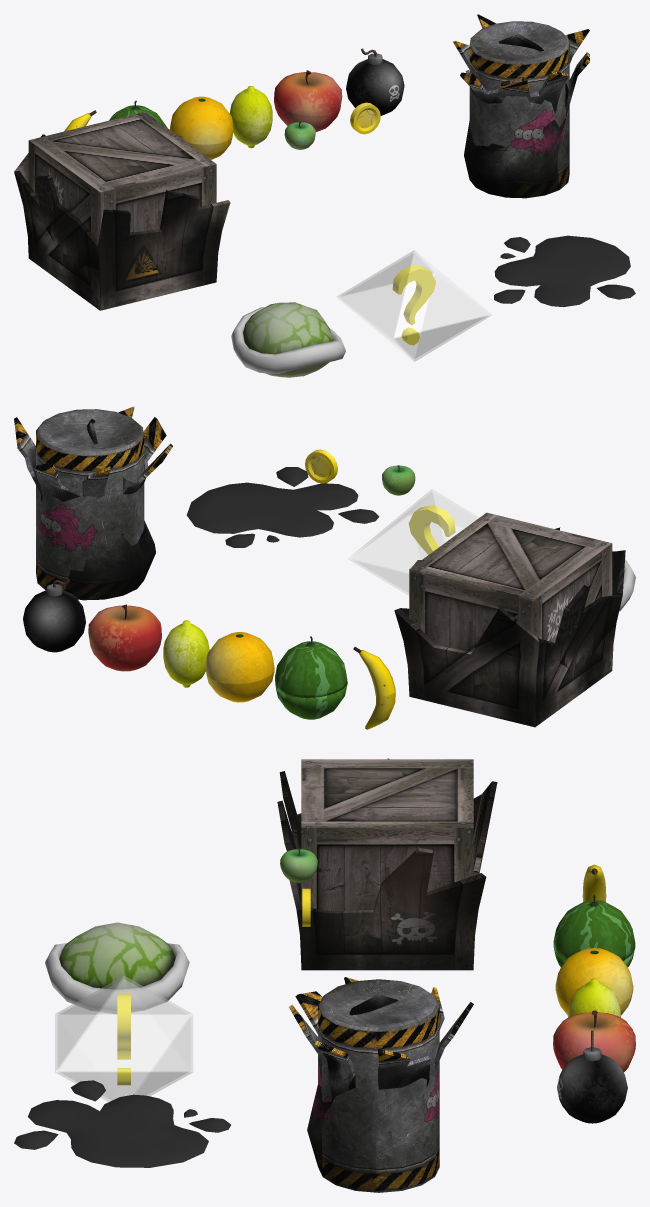
The model's file is OBJETOS.FBX.
3 renders of one model, top to bottom at view 1: azimuth 30°, elevation 25°; view 2: azimuth 150°, elevation 25°; view 3: azimuth 270°, elevation 25°, orthographic. The views are drawn at different scales.
Visible parts, largest first — view 1: Box002, Box001, Cylinder001, Hedra001, Cylinder002, Line001, Box003, BOMBA, Object004, Object002, Object, Cylinder003 (+3 smaller); view 2: Box001, Box002, Cylinder001, Line001, Cylinder002, Hedra001, MELANCIA_UP, BOMBA, Object004, Object002, Object, MELANCIA_DOWN (+7 smaller); view 3: Box001, Cylinder001, Box002, Hedra001, Line001, Box003, Cylinder002, BOMBA, MELANCIA_UP, Object004, Object002, Object (+2 smaller).
Boxes of the visible parts, bbox=[...] form: Box002: bbox=[14, 134, 230, 310]; Box001: bbox=[28, 112, 216, 241]; Cylinder001: bbox=[469, 21, 569, 189]; Hedra001: bbox=[336, 250, 491, 361]; Cylinder002: bbox=[453, 14, 589, 198]; Line001: bbox=[494, 235, 635, 307]; Box003: bbox=[231, 302, 345, 377]; BOMBA: bbox=[346, 48, 404, 115]; Object004: bbox=[274, 70, 342, 115]; Object002: bbox=[169, 96, 233, 144]; Object: bbox=[229, 86, 272, 124]; Cylinder003: bbox=[350, 102, 380, 134]; Box001: bbox=[409, 512, 612, 651]; Box002: bbox=[394, 527, 625, 727]; Cylinder001: bbox=[36, 409, 144, 590]; Line001: bbox=[186, 467, 379, 547]; Cylinder002: bbox=[14, 406, 172, 600]; Hedra001: bbox=[348, 489, 478, 595]; MELANCIA_UP: bbox=[275, 636, 347, 698]; BOMBA: bbox=[23, 579, 85, 652]; Object004: bbox=[88, 604, 161, 652]; Object002: bbox=[205, 632, 274, 683]; Object: bbox=[163, 620, 209, 662]; MELANCIA_DOWN: bbox=[276, 684, 347, 719]; Box001: bbox=[301, 759, 473, 911]; Cylinder001: bbox=[318, 979, 439, 1192]; Box002: bbox=[277, 758, 497, 970]; Hedra001: bbox=[55, 976, 192, 1101]; Line001: bbox=[14, 1080, 230, 1167]; Box003: bbox=[45, 922, 189, 1013]; Cylinder002: bbox=[289, 977, 473, 1176]; BOMBA: bbox=[557, 1030, 627, 1123]; MELANCIA_UP: bbox=[553, 894, 635, 961]; Object004: bbox=[553, 1010, 635, 1065]; Object002: bbox=[555, 948, 633, 1004]; Object: bbox=[568, 978, 620, 1017].
Size of the model in its own units: 198 by 69.96 by 164.
